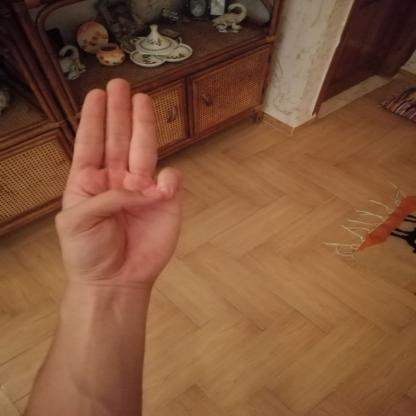THA: (42, 67, 198, 295)
